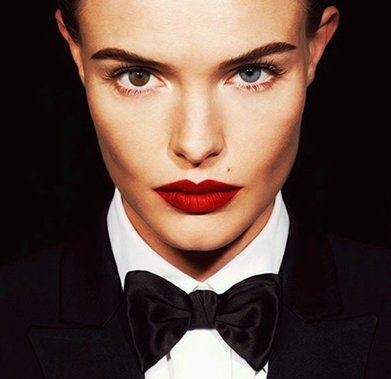bow: (113, 260, 284, 379)
